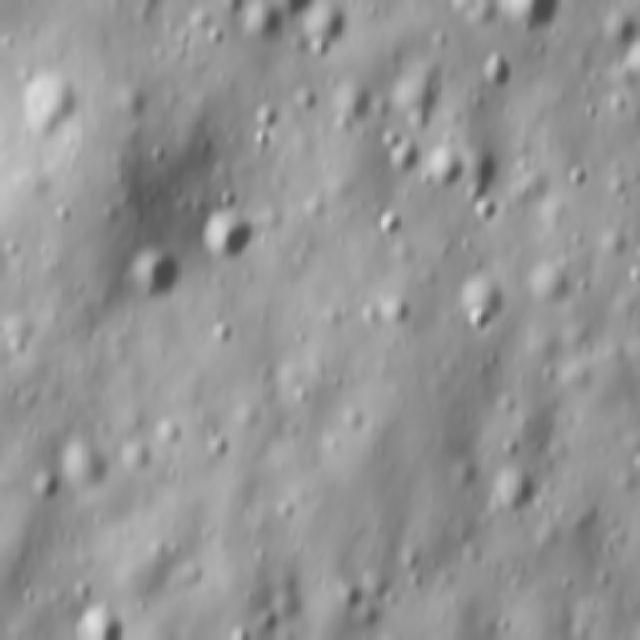crater: (448, 264, 504, 344), (202, 211, 261, 271), (484, 465, 538, 524), (126, 252, 186, 299), (501, 0, 561, 38), (425, 147, 469, 196), (472, 52, 514, 100), (65, 607, 122, 640), (270, 0, 333, 28), (601, 8, 637, 54), (368, 204, 404, 247), (382, 140, 422, 177), (20, 476, 54, 509), (214, 186, 241, 214), (624, 40, 640, 87)
